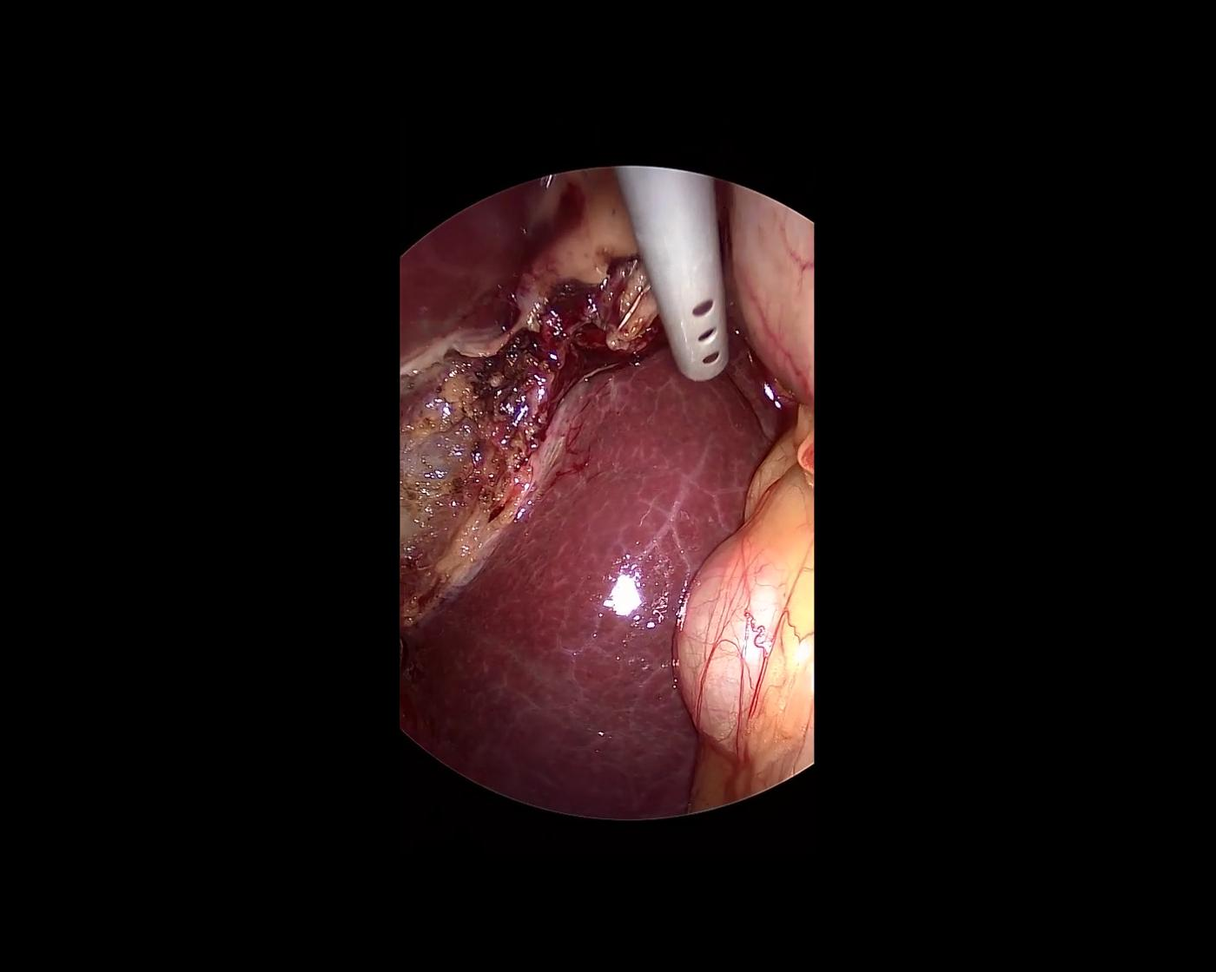Liver: (372, 272, 796, 837), (396, 176, 528, 374)
Suction: (614, 161, 731, 385)
